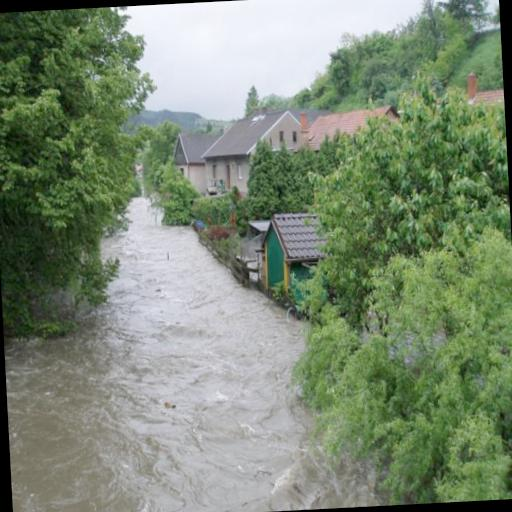flood: (4, 198, 379, 512)
house: (200, 106, 306, 194), (260, 208, 331, 296), (306, 108, 400, 141), (168, 130, 217, 188), (468, 82, 504, 107)
